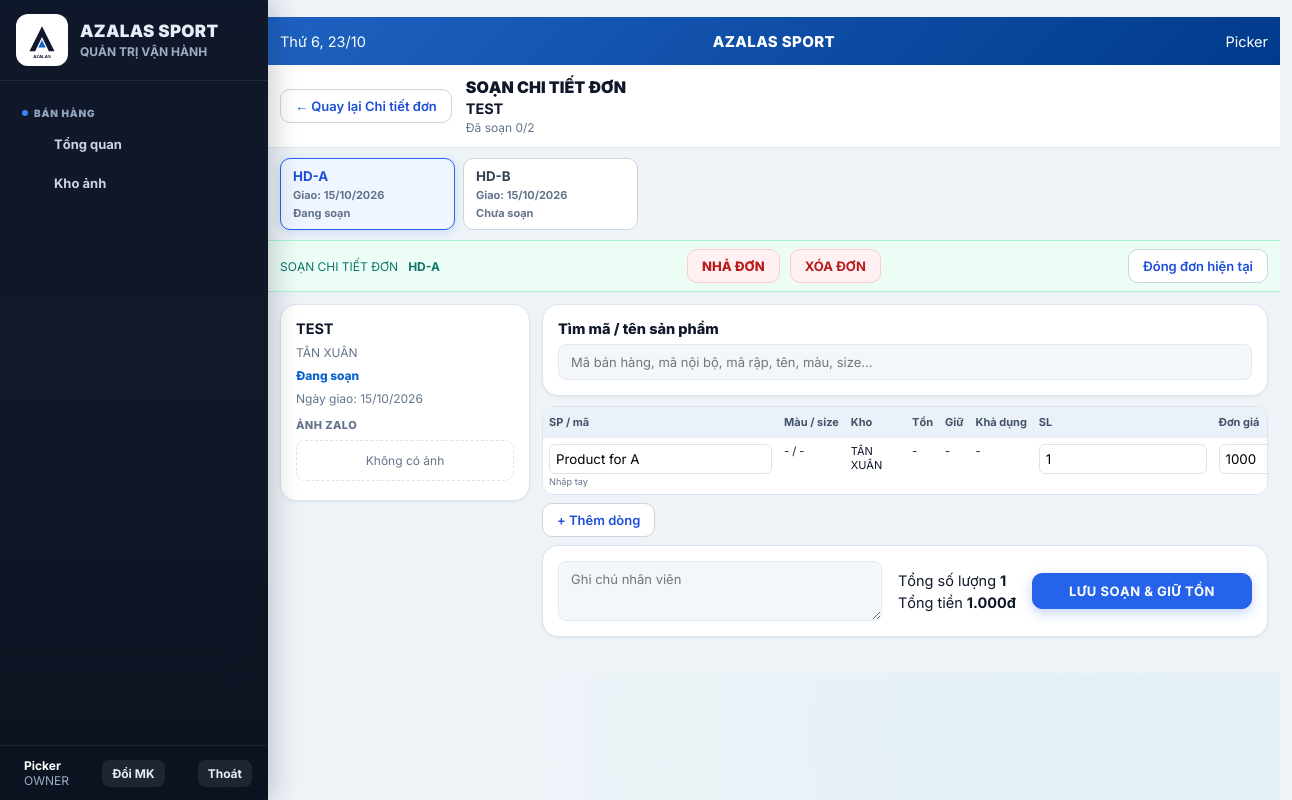
multi-order picking workspace › marks each saved order, updates the counter, and advances until the customer group is complete
The width and height of the screenshot is (1292, 800).
Click the button with class "btn-main".
click(1142, 591)  # box [1032, 573, 1252, 609]
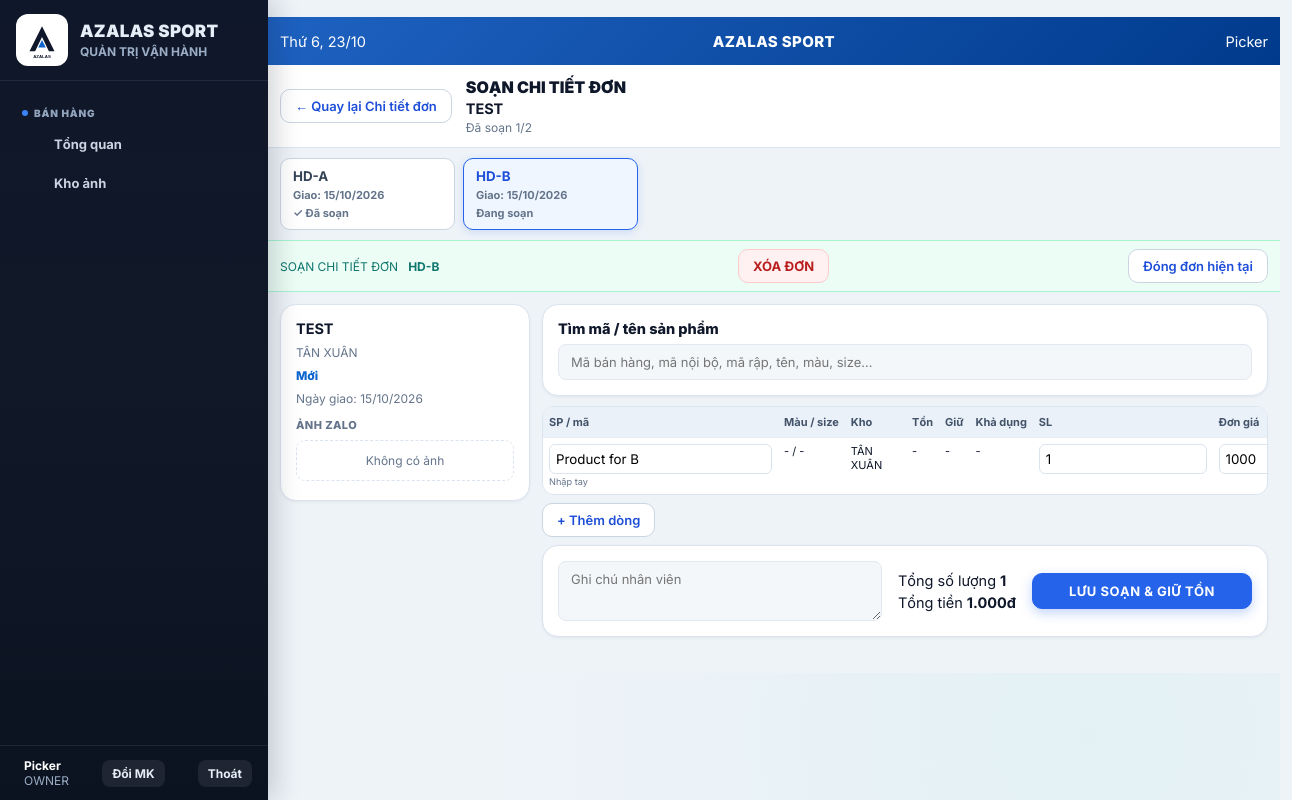
Result: the header "← Quay lại Chi tiết đơn SOẠN CHI TIẾT ĐƠN TEST Đã soạn 1/2" is shown at [268, 65, 1280, 148]
Result: the button "HD-A Giao: 15/10/2026 ✓ Đã soạn" is shown at [280, 158, 455, 230]
Result: the header "SOẠN CHI TIẾT ĐƠN HD-B XÓA ĐƠN Đóng đơn hiện tại" is shown at [268, 240, 1280, 292]
Click the button with class "btn-main".
click(1142, 591)  # box [1032, 573, 1252, 609]
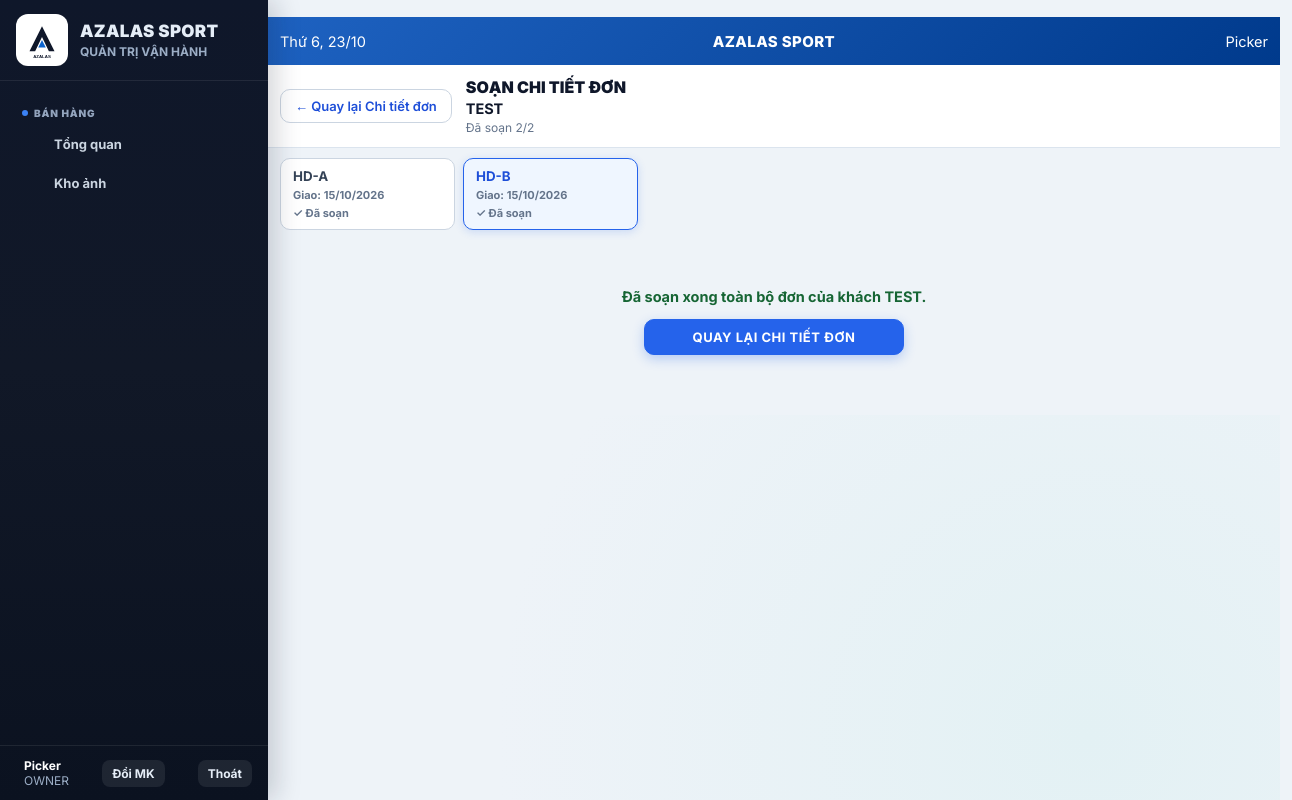
Expected: the element that starts with "← Quay lại Chi tiết đơn" is shown, [268, 65, 1280, 415]
Result: the header "← Quay lại Chi tiết đơn SOẠN CHI TIẾT ĐƠN TEST Đã soạn 2/2" is shown at [268, 65, 1280, 148]
Result: the message "Đã soạn xong toàn bộ đơn của khách TEST. Quay lại Chi tiết đơn" is shown at [622, 288, 926, 355]
